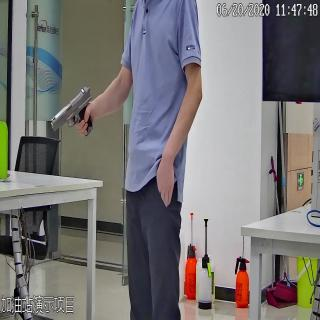gun: (47, 86, 98, 137)
